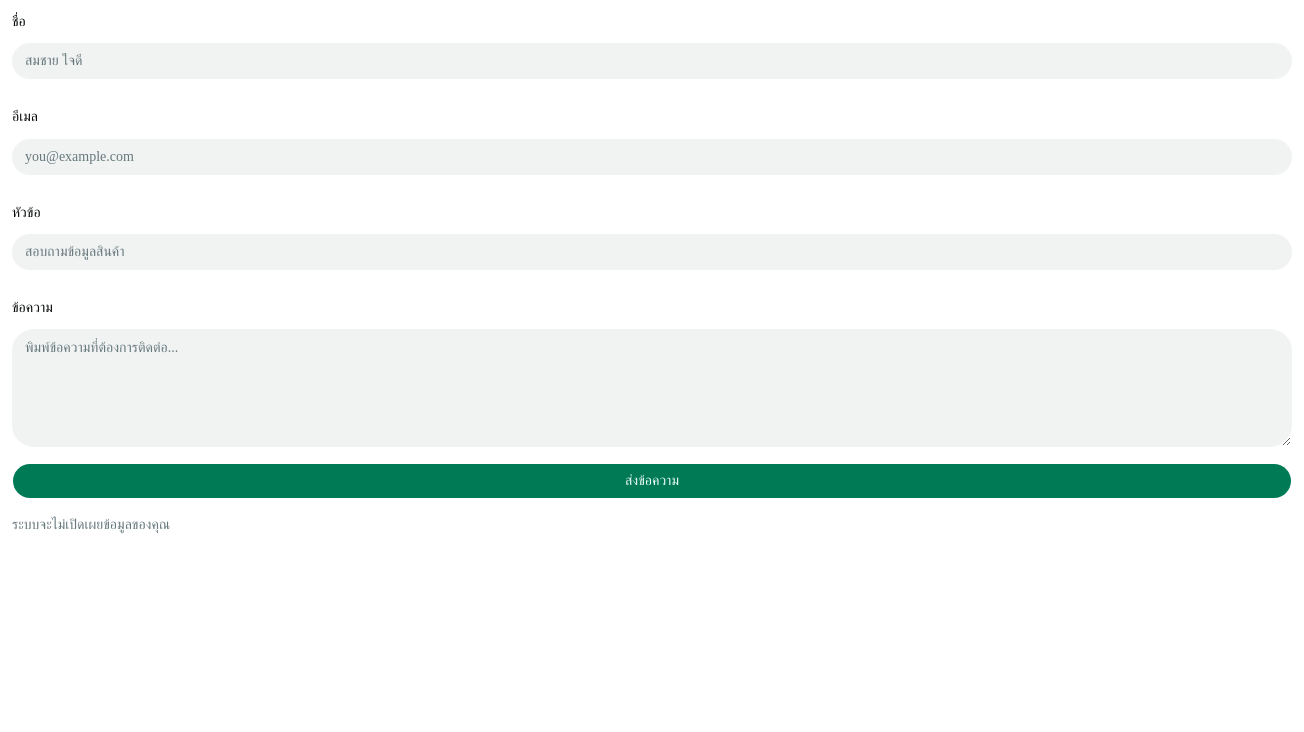
Test: ContactForm › keeps entered values when validation fails
The image size is (1304, 732).
Step 1. Type "ส" into the field labelled "ชื่อ" → (652, 61), box [12,43,1292,79]
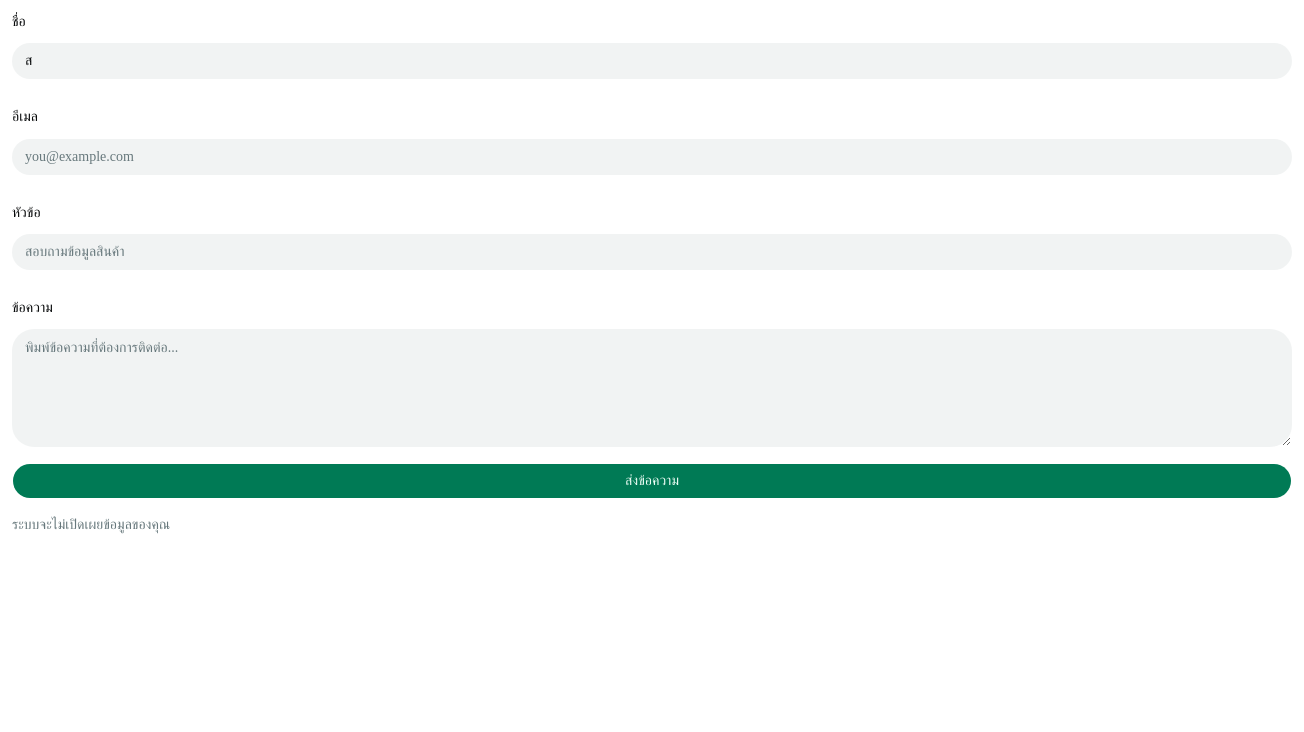
Step 2. Click the button "ส่งข้อความ" → (652, 481), box [12,463,1292,499]
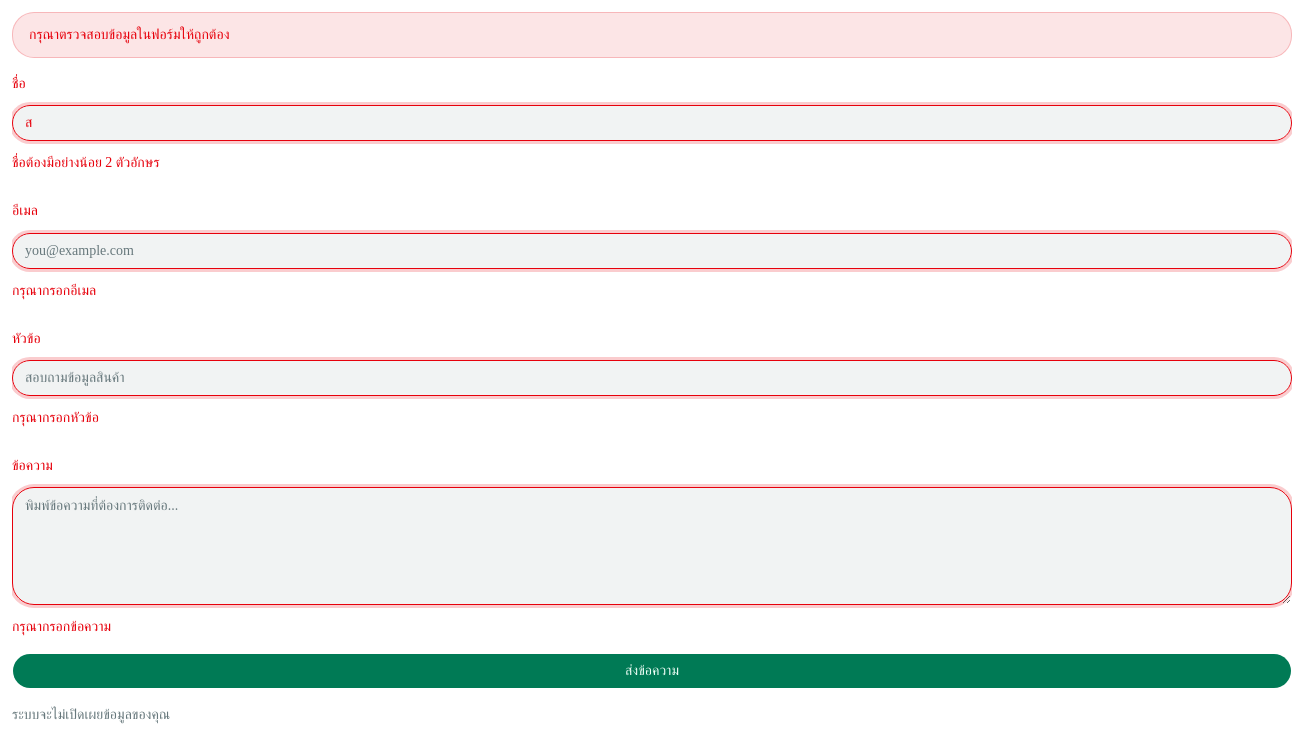
Result: the text "ชื่อต้องมีอย่างน้อย 2 ตัวอักษร" is shown at [12,155,160,170]
